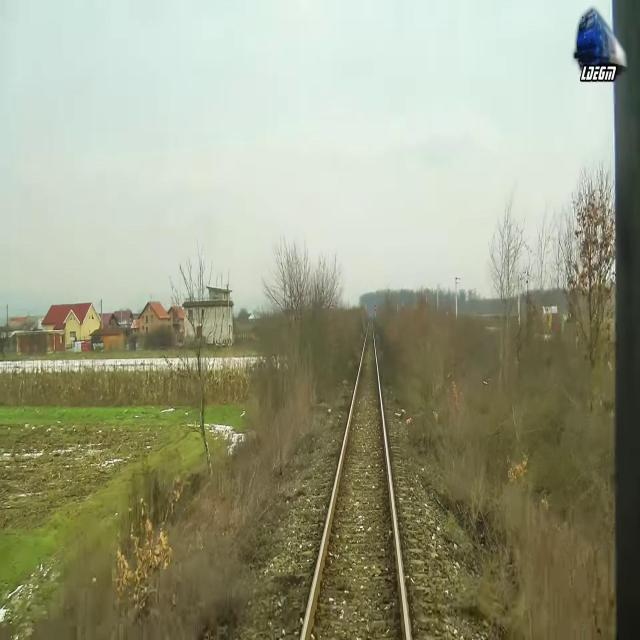rail-track: (304, 323, 405, 639)
